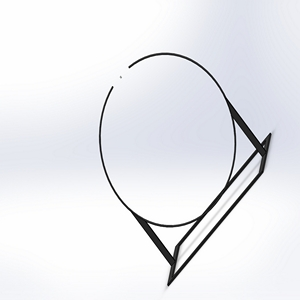circle: (94, 45, 273, 286)
